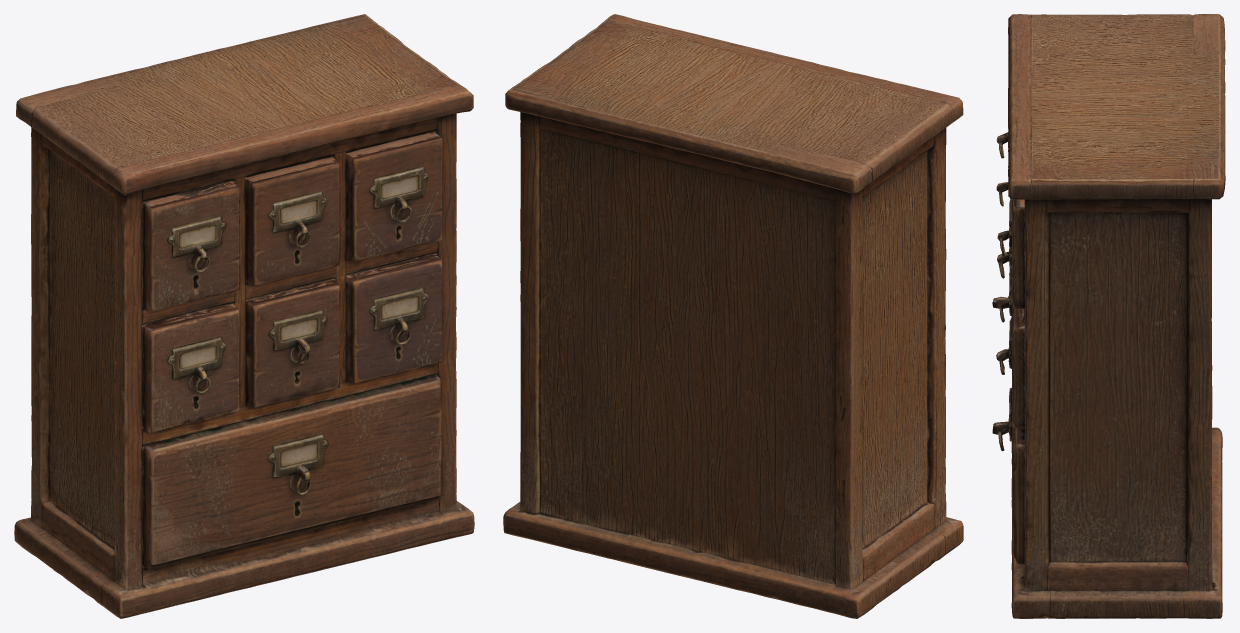
The model's file is Furn_DrawerCabinet.fbx.
The picture shows the model from 3 angles, left to right: view 1: azimuth 30°, elevation 25°; view 2: azimuth 150°, elevation 25°; view 3: azimuth 270°, elevation 25°; orthographic projection.
Parts seen in each view (by area): view 1: texture_mapping; view 2: texture_mapping; view 3: texture_mapping.
Boxes of the visible parts, x1,y1,x2,y2 form: texture_mapping: (14, 14, 474, 618); texture_mapping: (503, 14, 963, 618); texture_mapping: (992, 14, 1225, 618).
Size of the model in its own units: 0.8348 by 0.4802 by 0.9965.
Materials: 1 (1 with a texture image).
